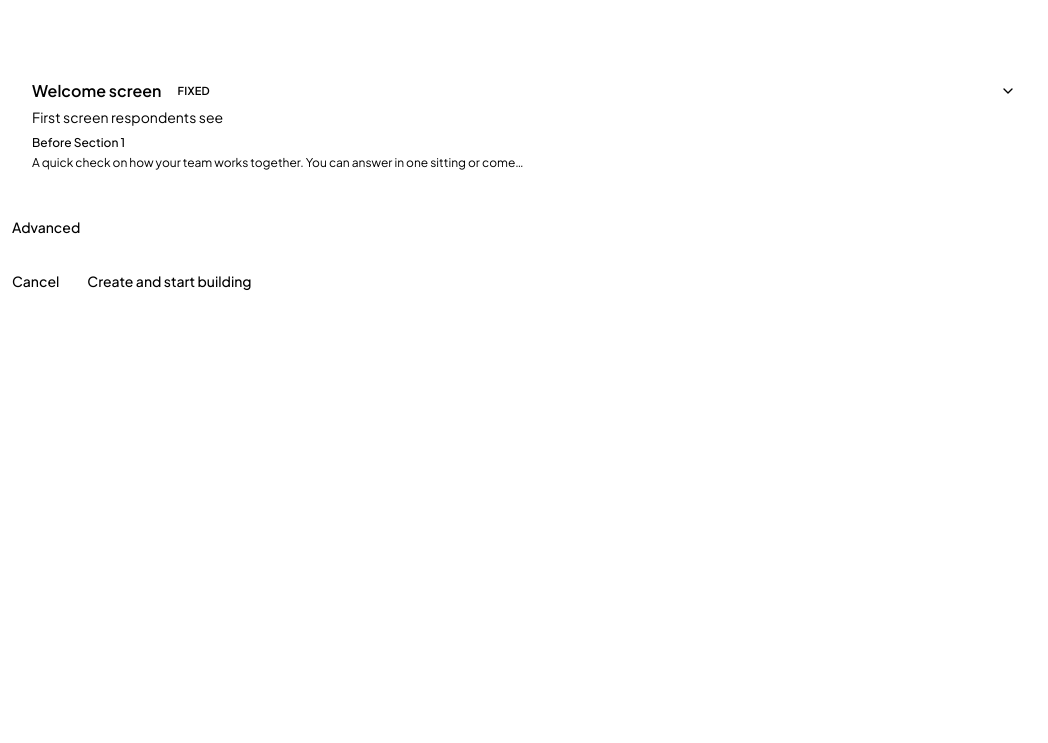
SimplifiedAssessmentTemplateForm › renders the collapsed welcome card between the name and Advanced controls
This screenshot has width=1048, height=743.
Click the button with aria-label "Expand Welcome screen" at (97, 90), box [12,59,1036,191]
(page scrolled)
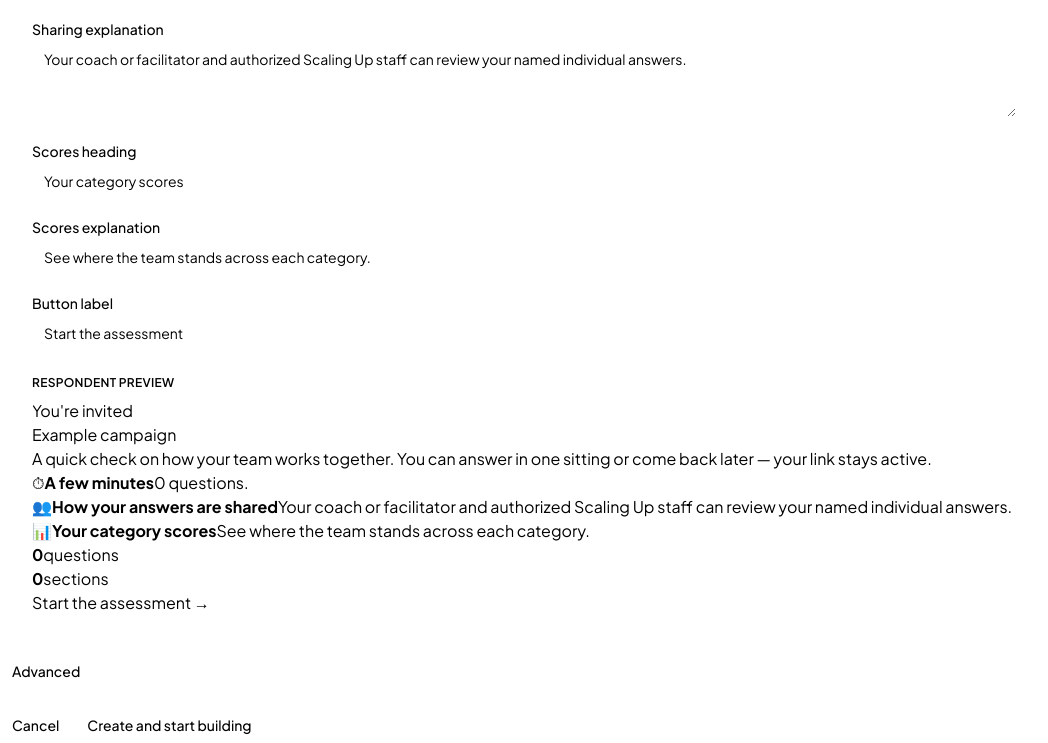
Check: the text box labelled "Sharing explanation" is shown, box [32,41,1016,117]
Check: the field labelled "Scores heading" is shown, box [32,163,1016,199]
Check: the field labelled "Scores explanation" is shown, box [32,239,1016,275]
